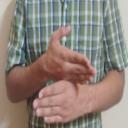hand: (44, 25, 95, 85), (32, 79, 89, 123)
